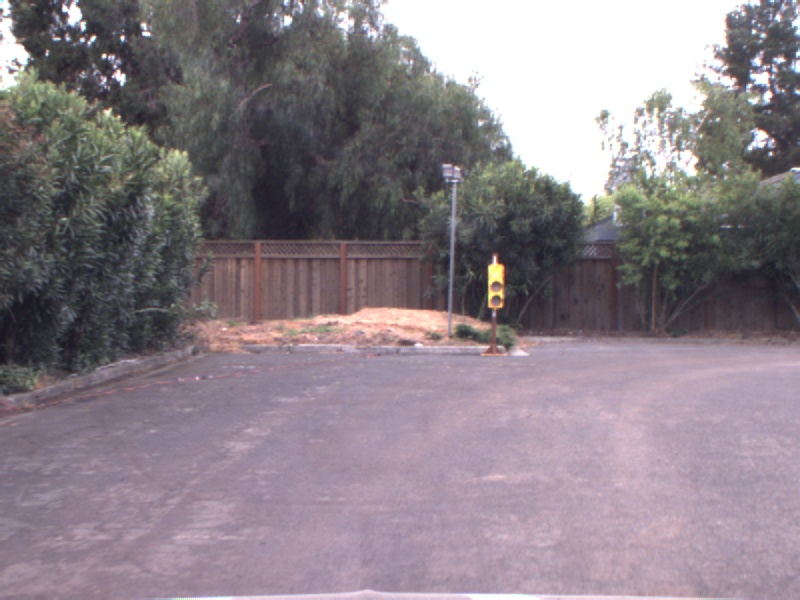red: (484, 258, 508, 310)
